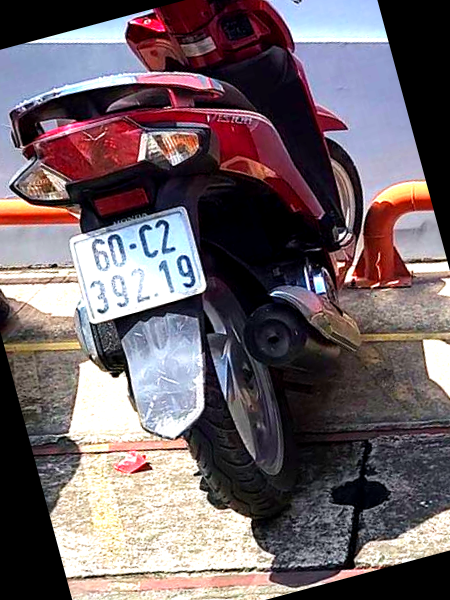number: (71, 206, 201, 320)
